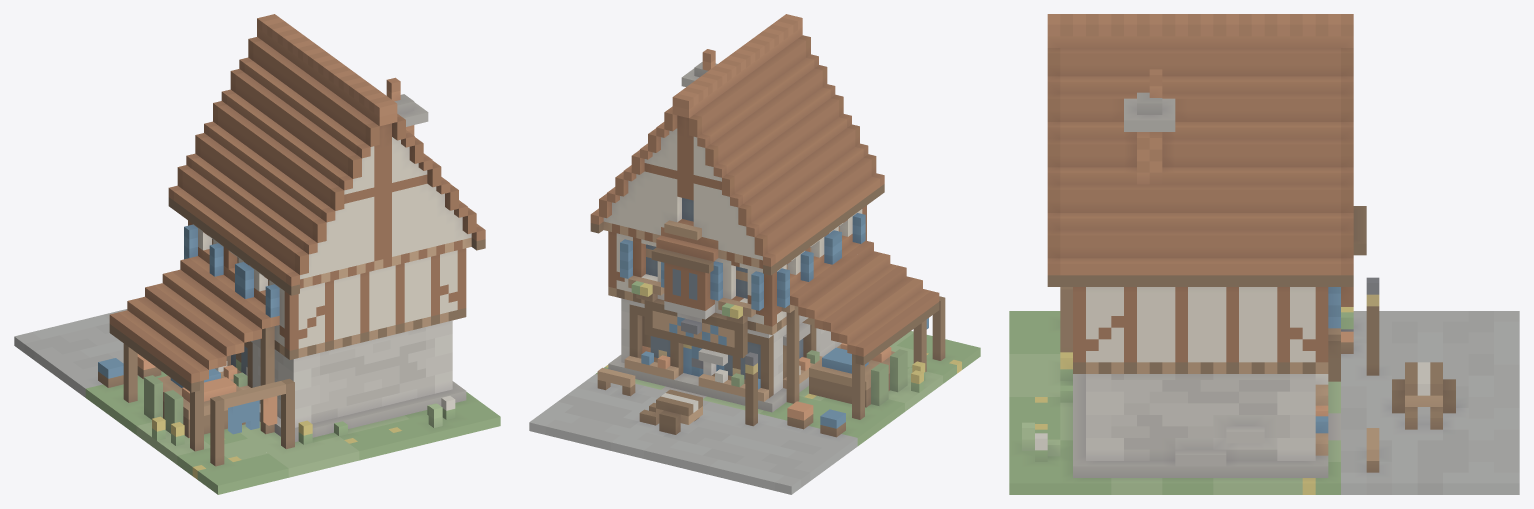
Rendered from tailor.glb.
The picture shows the model from 3 angles, left to right: view 1: azimuth 30°, elevation 25°; view 2: azimuth 150°, elevation 25°; view 3: azimuth 270°, elevation 25°; orthographic projection. The views are drawn at different scales.
Parts seen in each view (by area): view 1: tailor; view 2: tailor; view 3: tailor.
Part boxes in pixels (left/top/right/bottom): tailor: left=14, top=14, right=500, bottom=494; tailor: left=529, top=14, right=980, bottom=494; tailor: left=1009, top=14, right=1519, bottom=494.
Size of the model in its own units: 4 by 4.5 by 5.
